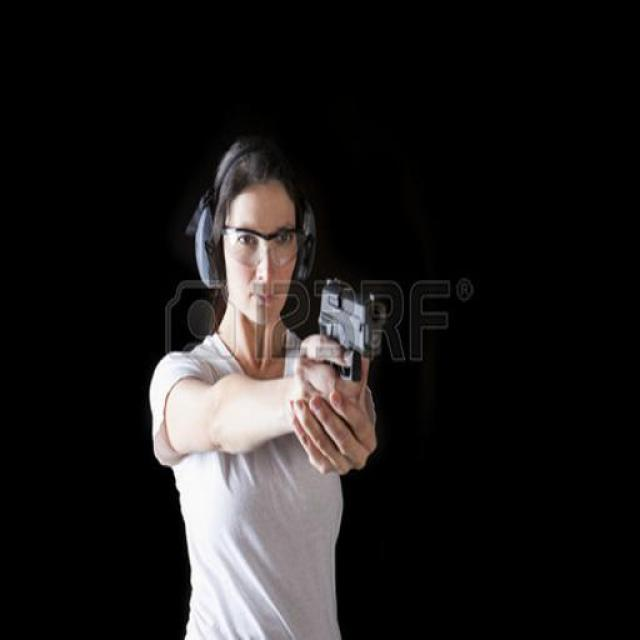pistol: (315, 276, 385, 385)
